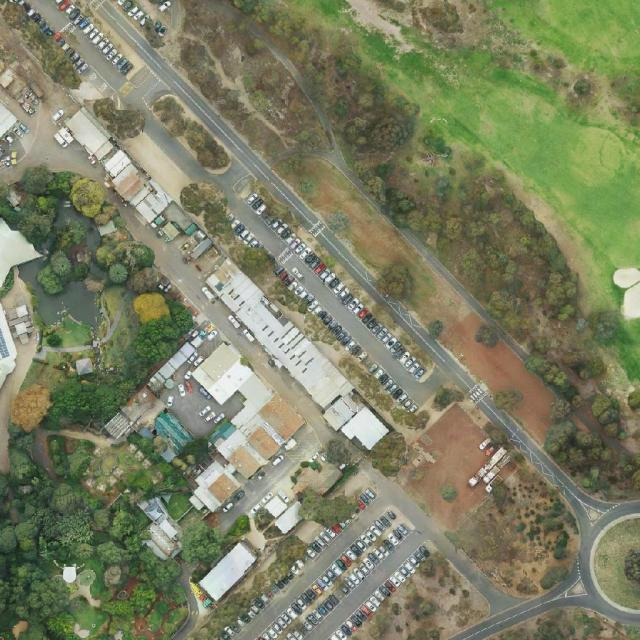building: (203, 252, 392, 459), (126, 339, 309, 522), (97, 146, 174, 226), (188, 537, 265, 610), (101, 384, 169, 454), (61, 106, 119, 163), (137, 493, 183, 563), (146, 338, 198, 394), (1, 217, 42, 287), (273, 499, 310, 536), (1, 302, 17, 387), (8, 304, 31, 344), (263, 494, 289, 519), (1, 101, 18, 138), (77, 357, 94, 375)
greenland: (338, 90, 613, 356), (212, 0, 433, 180), (0, 425, 171, 639), (37, 277, 203, 453), (190, 529, 312, 640), (164, 493, 256, 583), (147, 90, 235, 178), (85, 224, 173, 306), (173, 171, 252, 247), (97, 291, 151, 375), (86, 88, 151, 147), (540, 498, 579, 590), (3, 377, 59, 436), (365, 426, 419, 482), (521, 346, 578, 398), (149, 580, 195, 640), (139, 454, 192, 503), (25, 346, 74, 393), (125, 421, 171, 470), (41, 309, 93, 348), (298, 494, 357, 527), (234, 239, 277, 283), (588, 391, 625, 442), (95, 285, 130, 336), (565, 343, 607, 384), (376, 262, 414, 300), (168, 491, 192, 521), (624, 549, 640, 586), (628, 389, 640, 410)
metalled_road: (306, 211, 599, 514), (128, 185, 348, 520), (96, 0, 287, 197), (346, 463, 517, 632), (234, 494, 392, 640), (282, 253, 429, 404), (249, 15, 349, 153), (16, 0, 147, 104), (397, 225, 494, 325), (133, 113, 234, 200), (19, 104, 113, 181), (215, 161, 283, 265), (171, 564, 217, 640), (117, 64, 162, 109), (274, 181, 319, 224), (89, 292, 125, 345), (325, 147, 370, 189), (264, 139, 333, 166), (413, 364, 448, 397), (496, 330, 526, 359), (613, 604, 640, 624), (45, 346, 91, 353)
